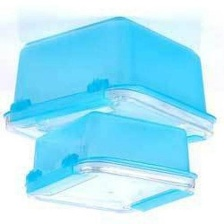plastic_box: (0, 10, 224, 149), (17, 107, 202, 224)
